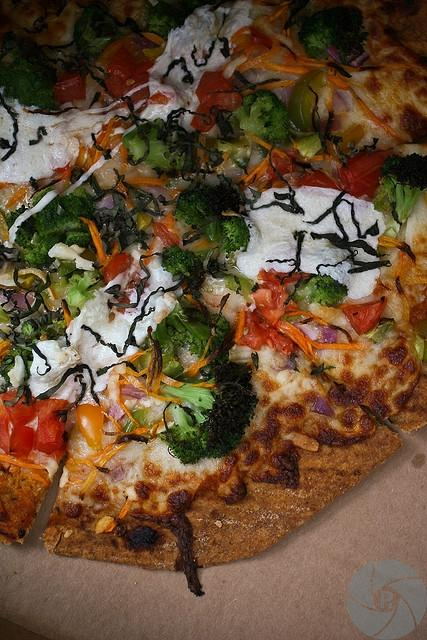broccoli: (159, 360, 259, 464), (166, 304, 234, 382), (372, 152, 427, 234), (172, 182, 241, 245), (298, 6, 369, 66), (224, 90, 290, 148), (0, 57, 61, 111), (36, 192, 96, 236), (72, 6, 122, 58), (122, 119, 171, 168), (162, 244, 210, 292), (144, 1, 193, 42), (67, 269, 98, 317), (6, 204, 39, 249), (219, 215, 252, 259), (310, 274, 349, 306), (64, 231, 91, 248), (21, 321, 37, 344), (52, 319, 67, 332)
onion: (202, 148, 248, 187), (150, 185, 175, 216), (9, 290, 36, 310), (310, 396, 334, 417), (269, 355, 297, 373), (120, 384, 148, 401), (324, 44, 344, 64), (105, 403, 125, 423), (94, 192, 115, 209), (333, 89, 347, 113), (322, 326, 338, 343), (44, 298, 64, 311), (110, 466, 126, 482), (116, 297, 130, 314), (284, 156, 294, 178), (114, 362, 126, 374)
tomato: (101, 33, 161, 108), (340, 148, 398, 198), (190, 90, 242, 132), (335, 296, 387, 336), (34, 399, 69, 455), (0, 388, 36, 426), (265, 148, 300, 182), (53, 70, 86, 106), (250, 282, 288, 310), (104, 252, 133, 286), (298, 170, 341, 190), (257, 268, 310, 284), (9, 424, 35, 456), (153, 221, 181, 249), (250, 26, 274, 50), (236, 334, 264, 351), (0, 404, 9, 454)
